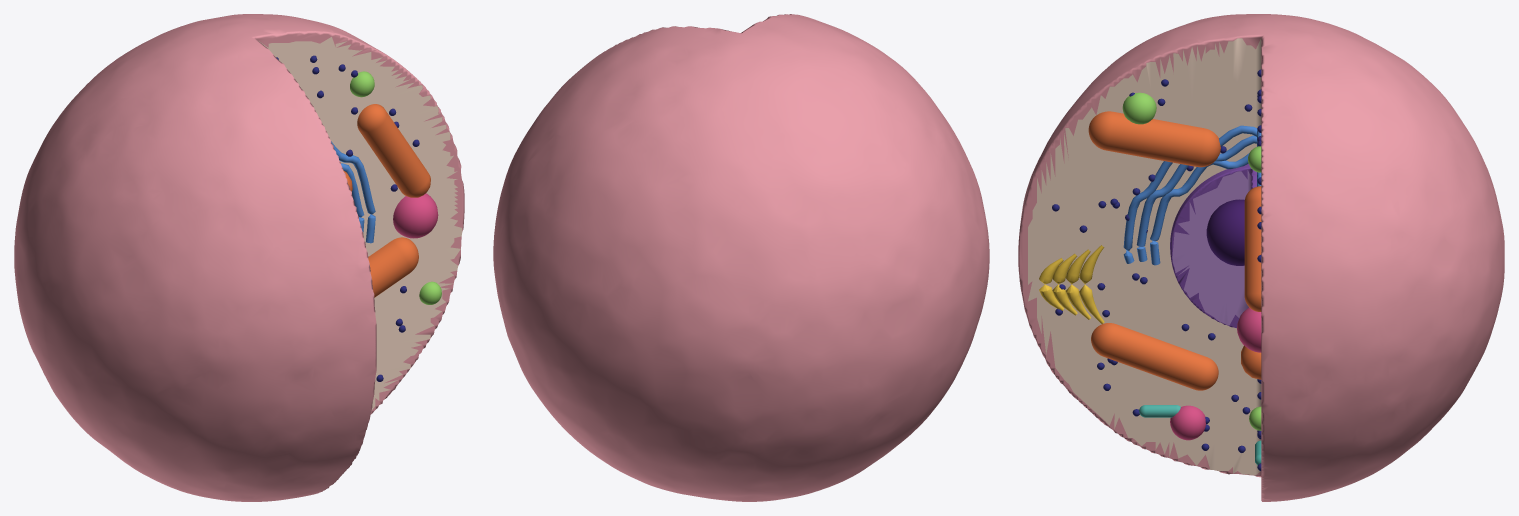
File: animal-cell.glb
3 views of the same model, side by side, from view 1: azimuth 30°, elevation 25°; view 2: azimuth 150°, elevation 25°; view 3: azimuth 270°, elevation 25° (orthographic).
Parts seen in each view (by area): view 1: Animal_Cell; view 2: Animal_Cell; view 3: Animal_Cell.
Part boxes in pixels (bbox=[...]): Animal_Cell: bbox=[14, 14, 464, 501]; Animal_Cell: bbox=[493, 14, 989, 501]; Animal_Cell: bbox=[1018, 14, 1504, 501].
Bounding box in the file's own units: 0.798 × 0.8017 × 0.8006.
